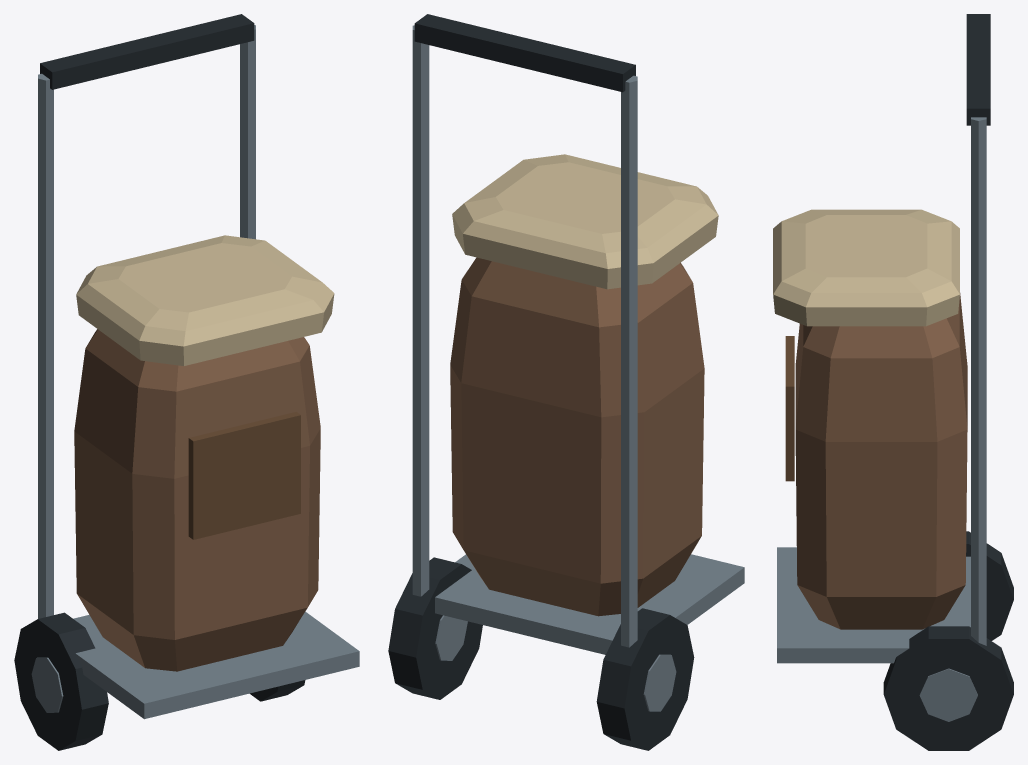
Rendered from b17_folding_shopping_trolley.glb.
The picture shows the model from 3 angles, left to right: view 1: azimuth 30°, elevation 25°; view 2: azimuth 150°, elevation 25°; view 3: azimuth 270°, elevation 25°; orthographic projection. The views are drawn at different scales.
Parts seen in each view (by area): view 1: b17_folding_shopping_trolley; view 2: b17_folding_shopping_trolley; view 3: b17_folding_shopping_trolley.
Boxes of the visible parts, <box> form: b17_folding_shopping_trolley: <box>14,14,359,750</box>; b17_folding_shopping_trolley: <box>388,14,744,750</box>; b17_folding_shopping_trolley: <box>773,14,1013,750</box>.
Bounding box in the file's own units: 0.344 × 0.9382 × 0.322.
